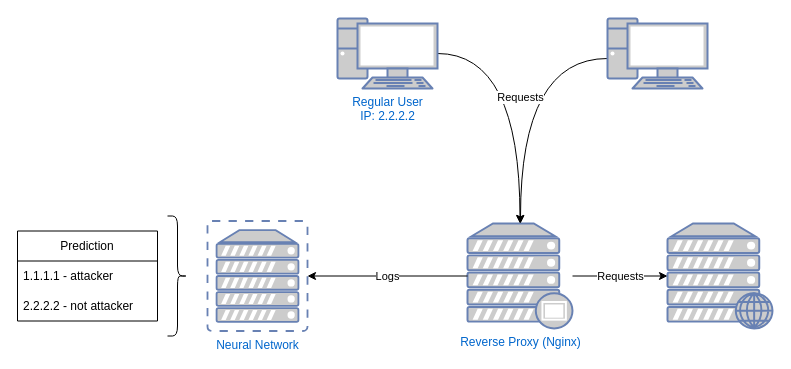
This 791x369 diagram has some shape labels left out. Here are the shapes that lost their labels. From the top down, the box of each, then its label:
(606, 17, 708, 89): Attacker IP: 1.1.1.1
(666, 222, 773, 329): OWASP Juice Shop
